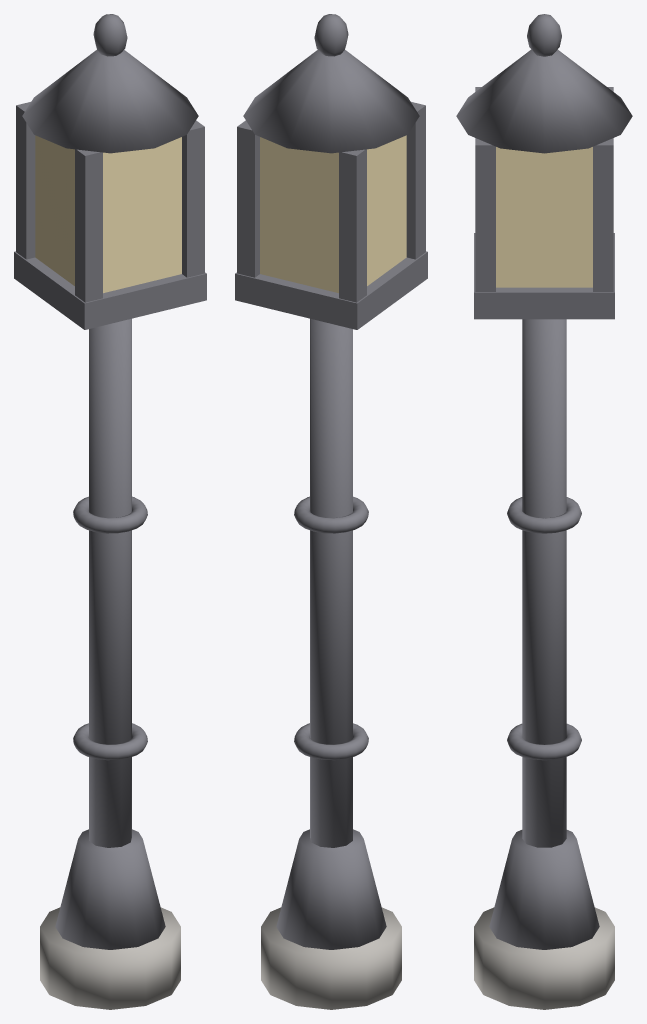
The model's file is lamp_post.fbx.
The picture shows the model from 3 angles, left to right: view 1: azimuth 30°, elevation 25°; view 2: azimuth 150°, elevation 25°; view 3: azimuth 270°, elevation 25°; orthographic projection.
Visible parts, largest first — view 1: LampPost; view 2: LampPost; view 3: LampPost.
Boxes of the visible parts, bbox=[...] form: LampPost: bbox=[14, 14, 206, 1009]; LampPost: bbox=[235, 14, 427, 1009]; LampPost: bbox=[456, 14, 632, 1009].
Size of the model in its own units: 0.6 by 3.62 by 0.6.
